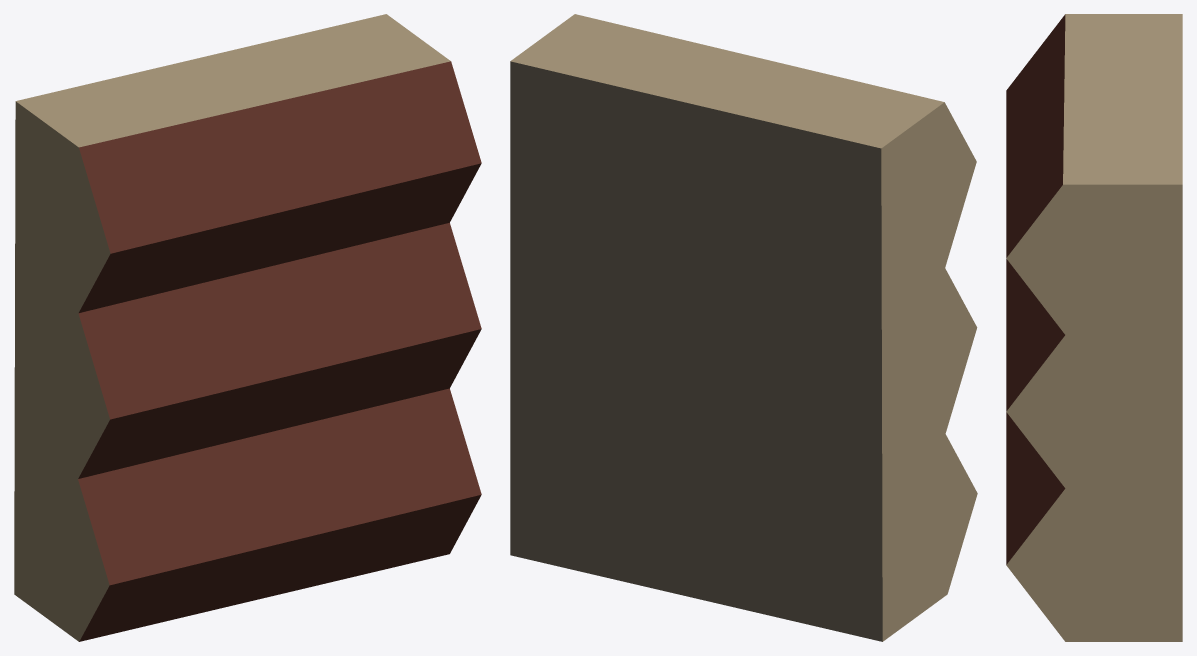
Rendered from SM_GLMedieval_NorthMarketMassing_east_31c9ff1a.obj.
3 views of the same model, side by side, from view 1: azimuth 30°, elevation 25°; view 2: azimuth 150°, elevation 25°; view 3: azimuth 270°, elevation 25° (orthographic). The views are drawn at different scales.
Bounding box in the file's own units: 20.87 × 26.63 × 9.25.
